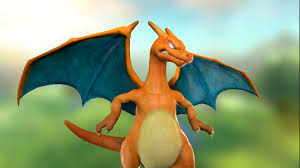charizard: (16, 19, 262, 168)
